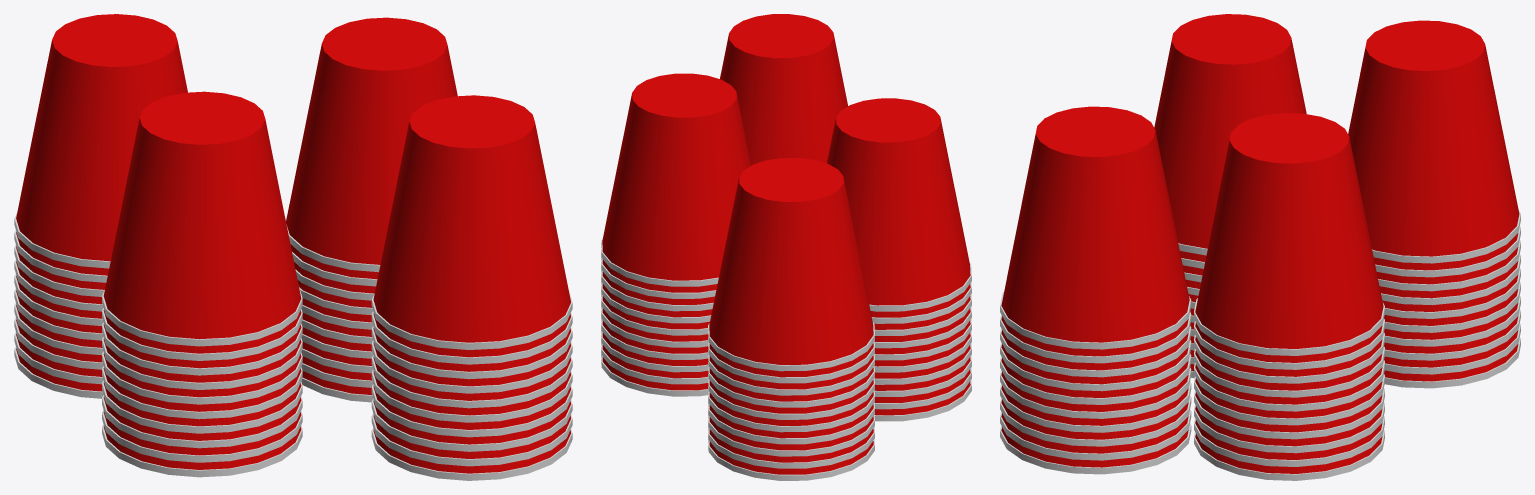
File: ColeccionRefrescos.fbx
3 renders of one model, left to right at view 1: azimuth 30°, elevation 25°; view 2: azimuth 150°, elevation 25°; view 3: azimuth 270°, elevation 25°, orthographic. The views are drawn at different scales.
Visible parts, largest first — view 1: pPipe62; view 2: pPipe62; view 3: pPipe62.
Boxes of the visible parts, x1=… form: pPipe62: x1=14, y1=14, x2=572, y2=480; pPipe62: x1=601, y1=14, x2=971, y2=480; pPipe62: x1=1000, y1=14, x2=1520, y2=480.
Size of the model in its own units: 9.65 by 7.57 by 11.82.
